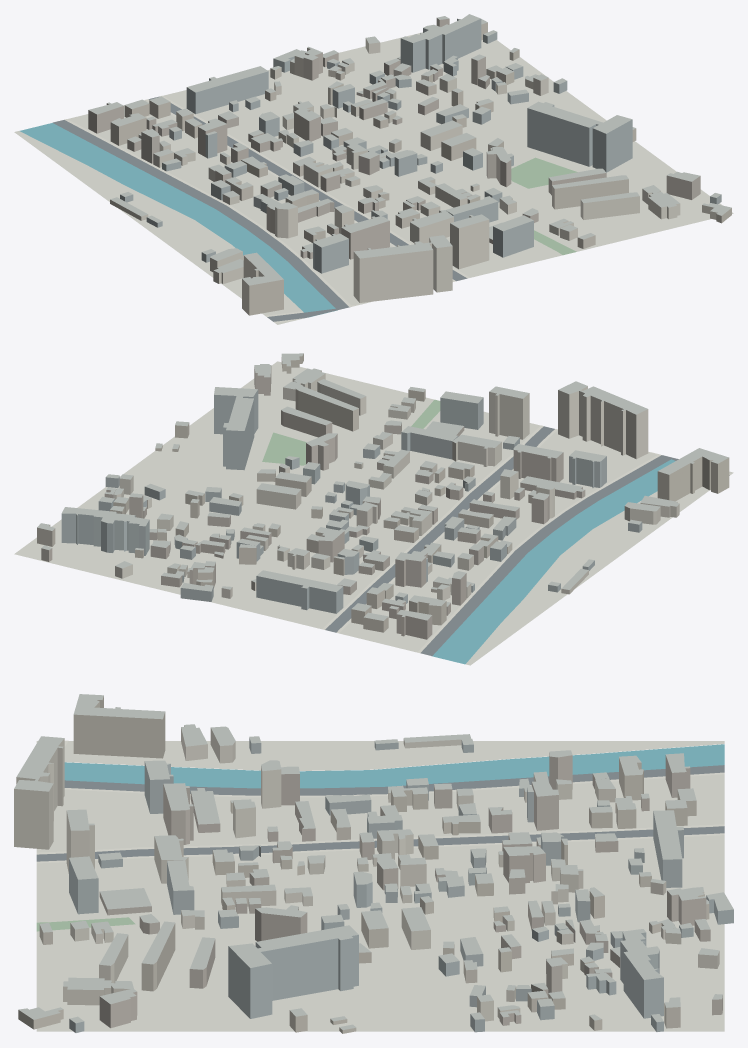
3 renders of one model, top to bottom at view 1: azimuth 30°, elevation 25°; view 2: azimuth 150°, elevation 25°; view 3: azimuth 270°, elevation 25°, orthographic. The views are drawn at different scales.
Visible parts, largest first — view 1: city; view 2: city; view 3: city.
Part boxes in pixels (x1,y1,x2,y2): city: (14, 14, 733, 324); city: (14, 353, 733, 665); city: (14, 694, 733, 1033).
Bounding box in the file's own units: 517 × 46.78 × 523.
